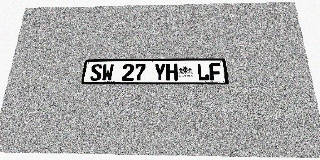plate: (81, 58, 229, 85)
